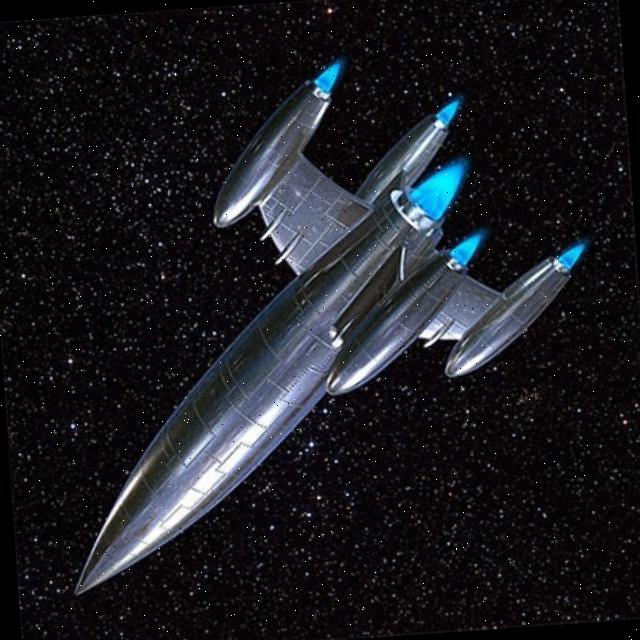rocket: (33, 76, 608, 597)
